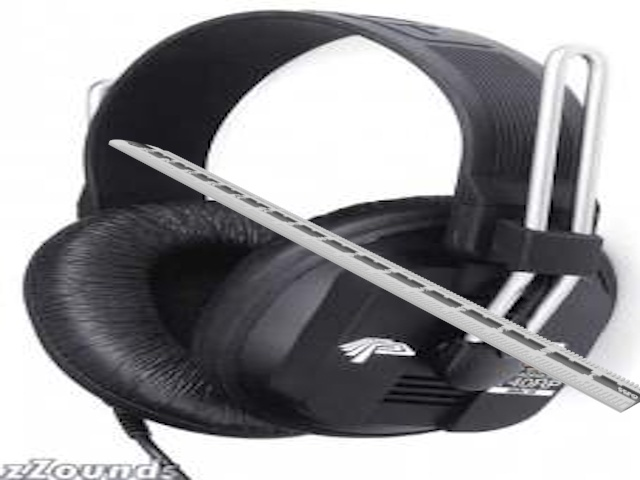ruler: (105, 137, 640, 416)
